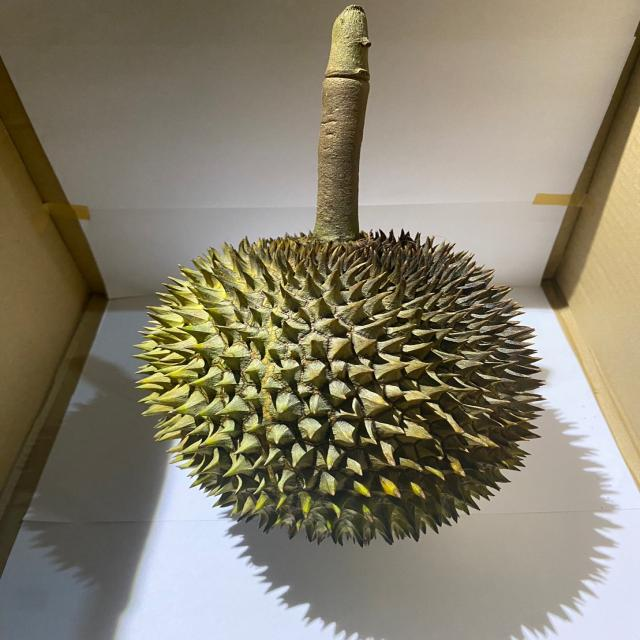immature: (135, 228, 538, 550)
